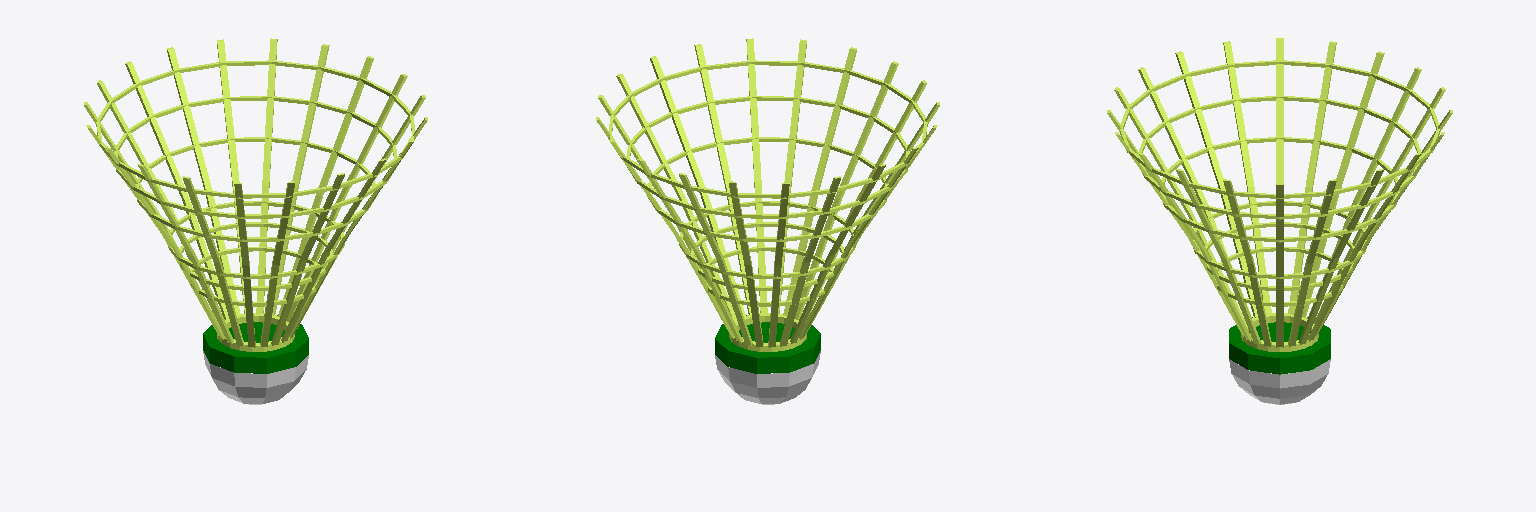
Rendered from shuttle.obj.
3 views of the same model, side by side, from view 1: azimuth 30°, elevation 25°; view 2: azimuth 150°, elevation 25°; view 3: azimuth 270°, elevation 25° (orthographic).
Parts seen in each view (by area): view 1: 027_Cylinder, 000_Tube, 001_Tube_1, 028_Sphere_-_baked, 002_Tube_2, 020_Box, 022_Box, 023_Box, 018_Box, 019_Box, 017_Box, 009_Box (+14 smaller); view 2: 027_Cylinder, 000_Tube, 001_Tube_1, 028_Sphere_-_baked, 002_Tube_2, 014_Box, 012_Box, 011_Box, 016_Box, 015_Box, 017_Box, 025_Box (+14 smaller); view 3: 000_Tube, 027_Cylinder, 001_Tube_1, 028_Sphere_-_baked, 002_Tube_2, 008_Box, 026_Box, 009_Box, 025_Box, 016_Box, 018_Box, 017_Box (+15 smaller).
Boxes of the visible parts, x1,y1,x2,y2 form: 027_Cylinder: [203, 315, 308, 373]; 000_Tube: [96, 60, 415, 198]; 001_Tube_1: [114, 96, 396, 218]; 028_Sphere_-_baked: [203, 351, 308, 404]; 002_Tube_2: [135, 137, 376, 241]; 020_Box: [256, 38, 277, 313]; 022_Box: [167, 47, 240, 315]; 023_Box: [125, 61, 228, 319]; 018_Box: [278, 56, 373, 316]; 019_Box: [272, 44, 329, 315]; 017_Box: [287, 74, 407, 321]; 009_Box: [182, 176, 243, 346]; 027_Cylinder: [715, 315, 820, 373]; 000_Tube: [608, 60, 927, 198]; 001_Tube_1: [627, 96, 909, 218]; 028_Sphere_-_baked: [715, 351, 820, 404]; 002_Tube_2: [647, 137, 888, 241]; 014_Box: [746, 38, 767, 313]; 012_Box: [783, 47, 856, 315]; 011_Box: [795, 61, 898, 319]; 016_Box: [650, 56, 745, 316]; 015_Box: [694, 44, 751, 315]; 017_Box: [616, 74, 736, 321]; 025_Box: [780, 176, 841, 346]; 000_Tube: [1120, 60, 1439, 198]; 027_Cylinder: [1229, 317, 1330, 374]; 001_Tube_1: [1139, 96, 1420, 219]; 028_Sphere_-_baked: [1229, 359, 1330, 404]; 002_Tube_2: [1159, 137, 1400, 242]; 008_Box: [1223, 41, 1271, 314]; 026_Box: [1288, 41, 1336, 314]; 009_Box: [1175, 51, 1257, 317]; 025_Box: [1302, 51, 1384, 317]; 016_Box: [1223, 179, 1271, 346]; 018_Box: [1288, 179, 1336, 346]; 017_Box: [1276, 183, 1283, 347].
Size of the model in its own units: 96.93 by 89.31 by 96.93.